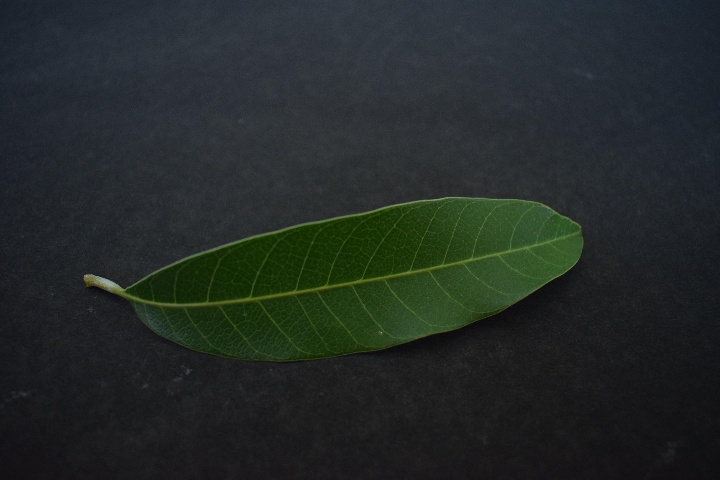healthy: (86, 192, 593, 360)
